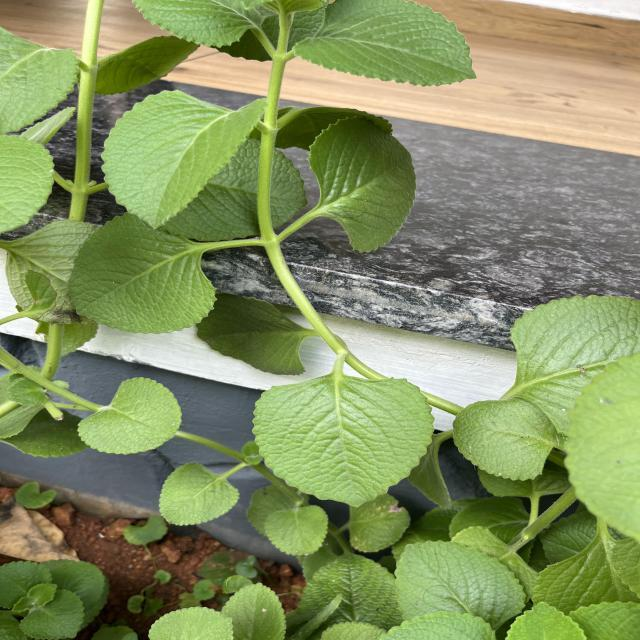Plectranthus barbatus: (251, 376, 436, 509), (100, 88, 270, 231), (67, 210, 219, 336), (292, 0, 480, 89), (304, 114, 418, 255), (392, 538, 528, 632), (450, 398, 556, 482), (77, 376, 183, 456), (158, 460, 242, 527), (347, 492, 412, 554), (263, 504, 330, 556)
